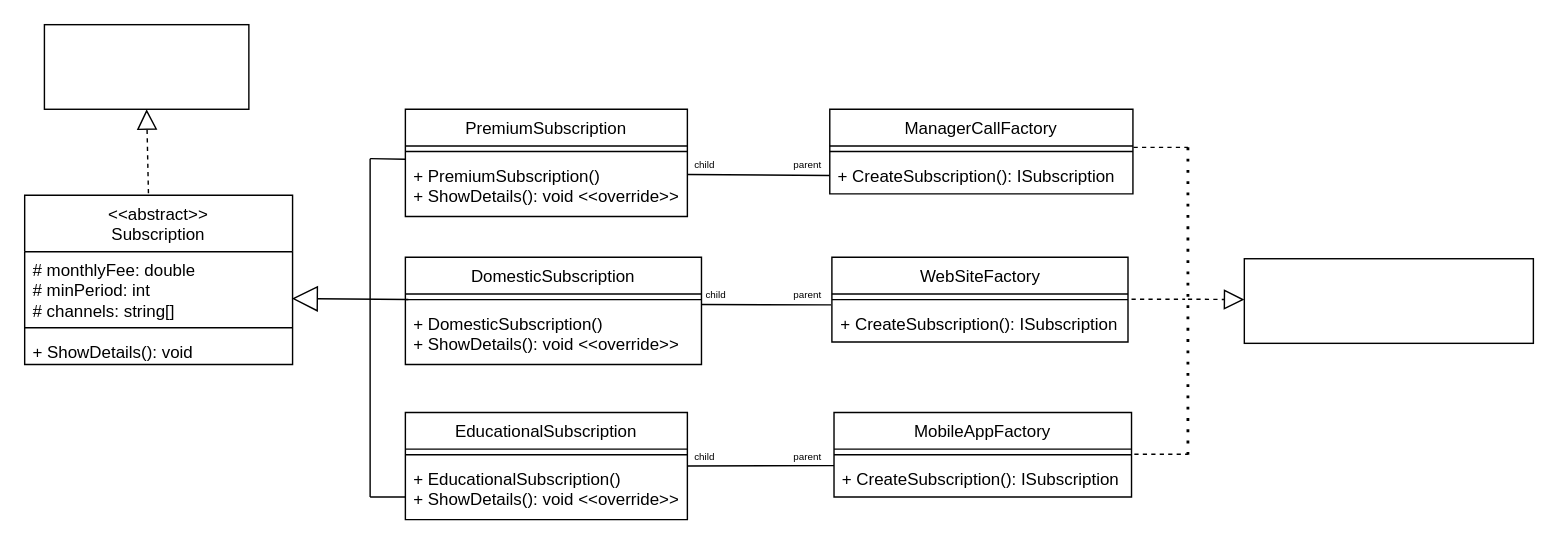
The diagram is 1558 pixels wide and 548 high, and some of its shapes have lost their labels. Here are the shapes that lost their labels. From the top down, the centre of each, then its label:
[146,66]: <<Interface>> ISubscription + ShowDetails(): void
[1388,300]: <<Interface>> ISubscriptionFactory + CreateSubscription(): ISubscription
